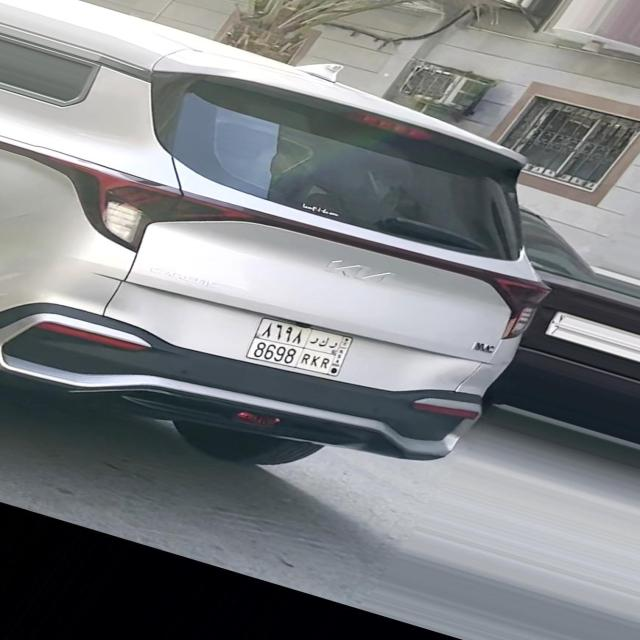Car-plate: (219, 304, 372, 385)
